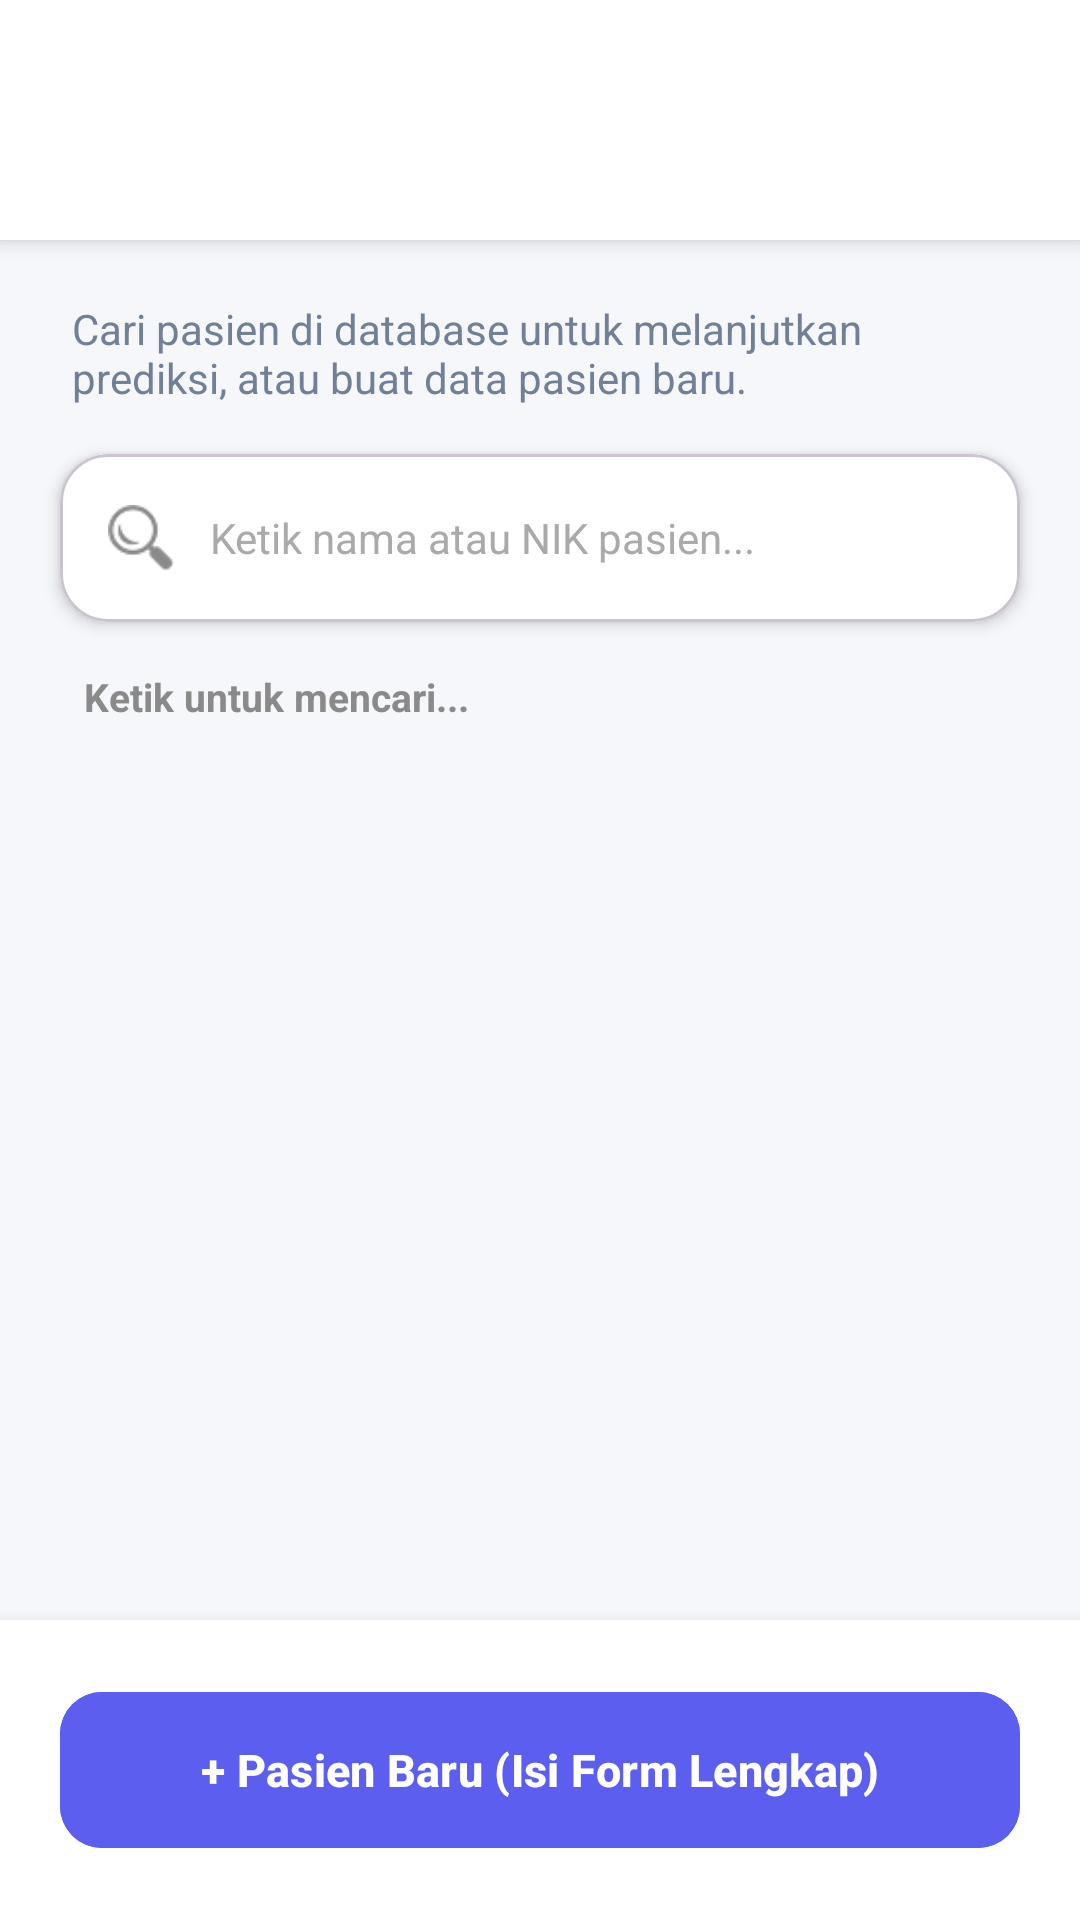

Named icons in this screenshot (1080 x 1920) and their bounding boxes, (x1, y1, x2, y2):
Search: (108, 505, 173, 570)
